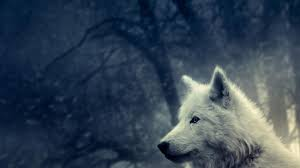Lobo: (156, 64, 277, 165)
